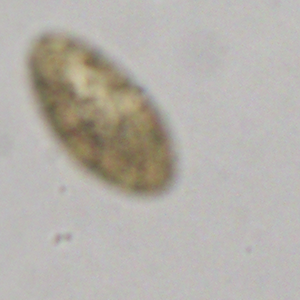Fasciola_hepatica_egg: (29, 26, 178, 198)
